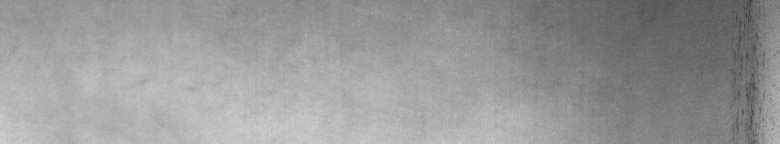ka: (725, 4, 767, 136)
